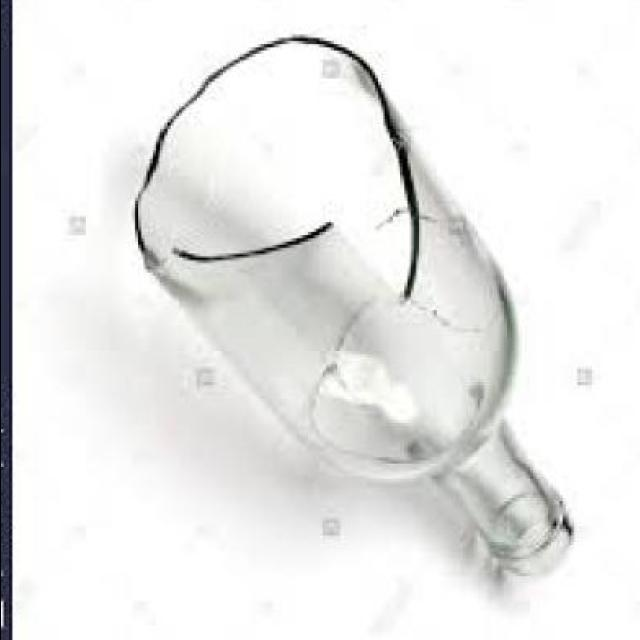kaca: (134, 41, 576, 583)
